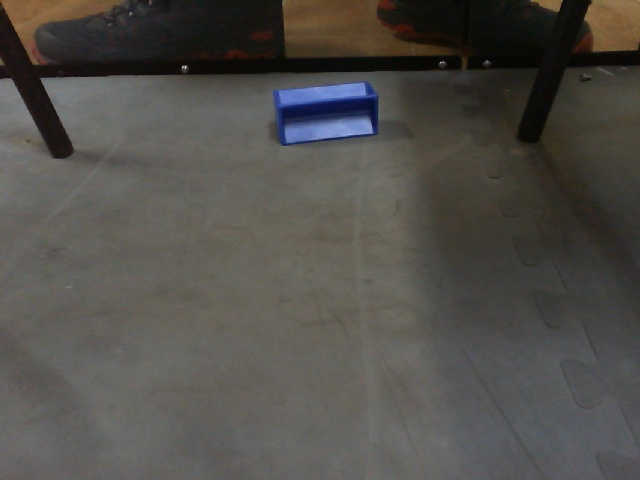BlueSample: (266, 79, 383, 149)
